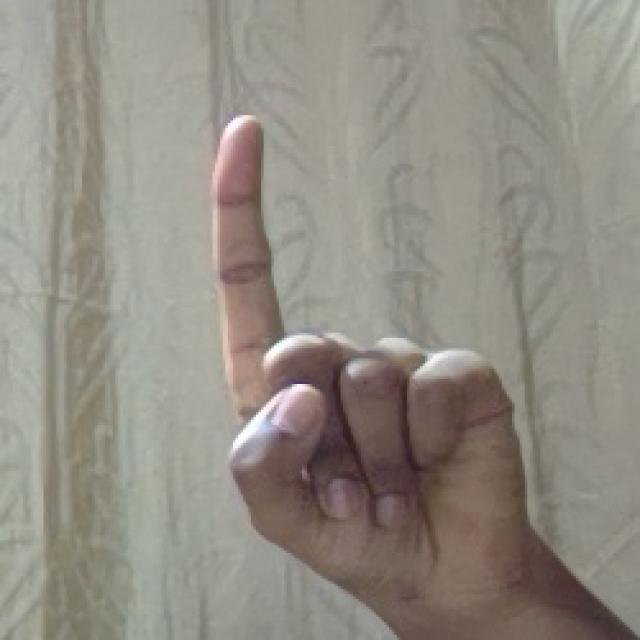Numeric-1: (208, 109, 516, 582)
